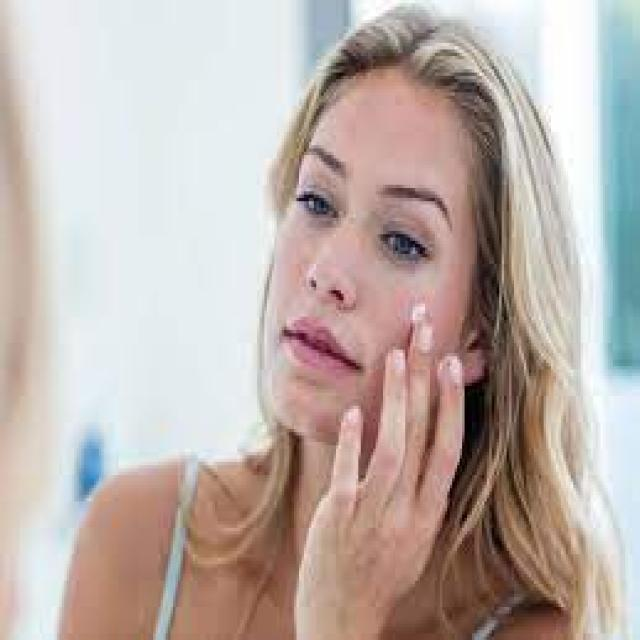Oily-Skin: (329, 108, 387, 326), (335, 263, 462, 339), (278, 222, 353, 321)
